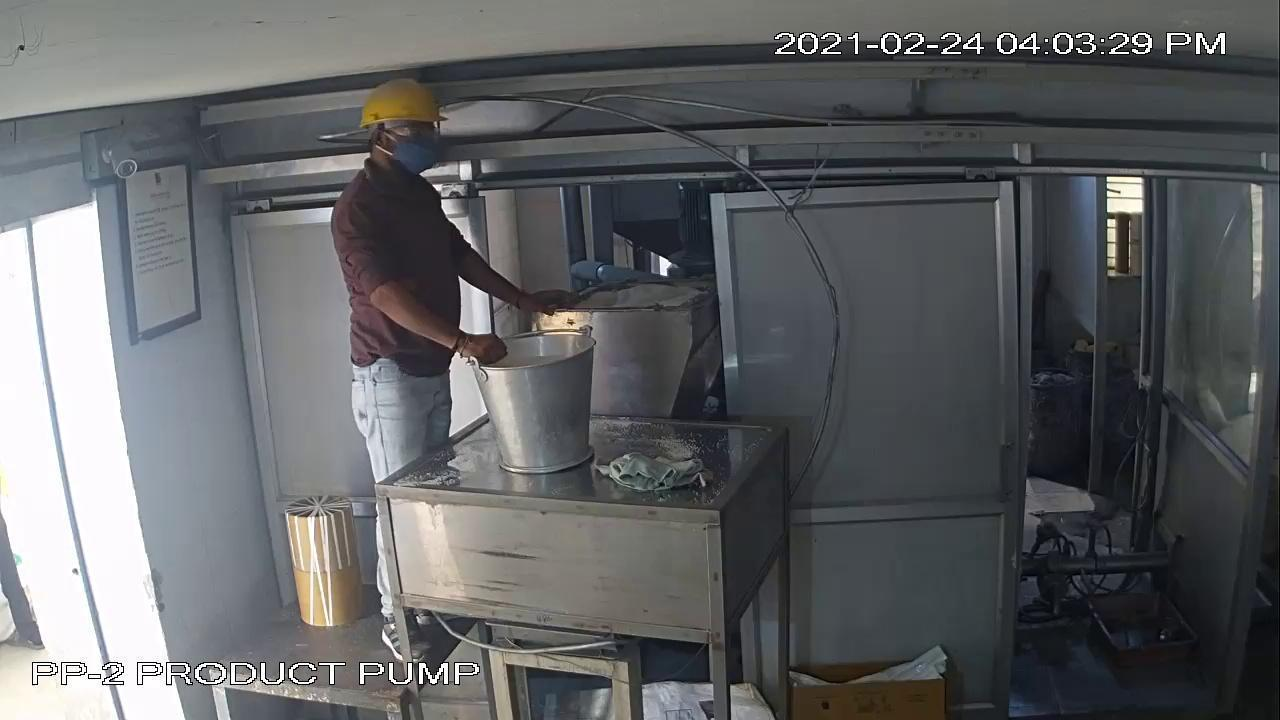helmet: (355, 79, 466, 140)
